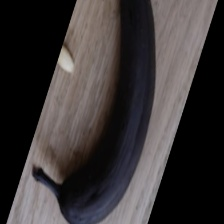banana: (0, 35, 190, 224)
